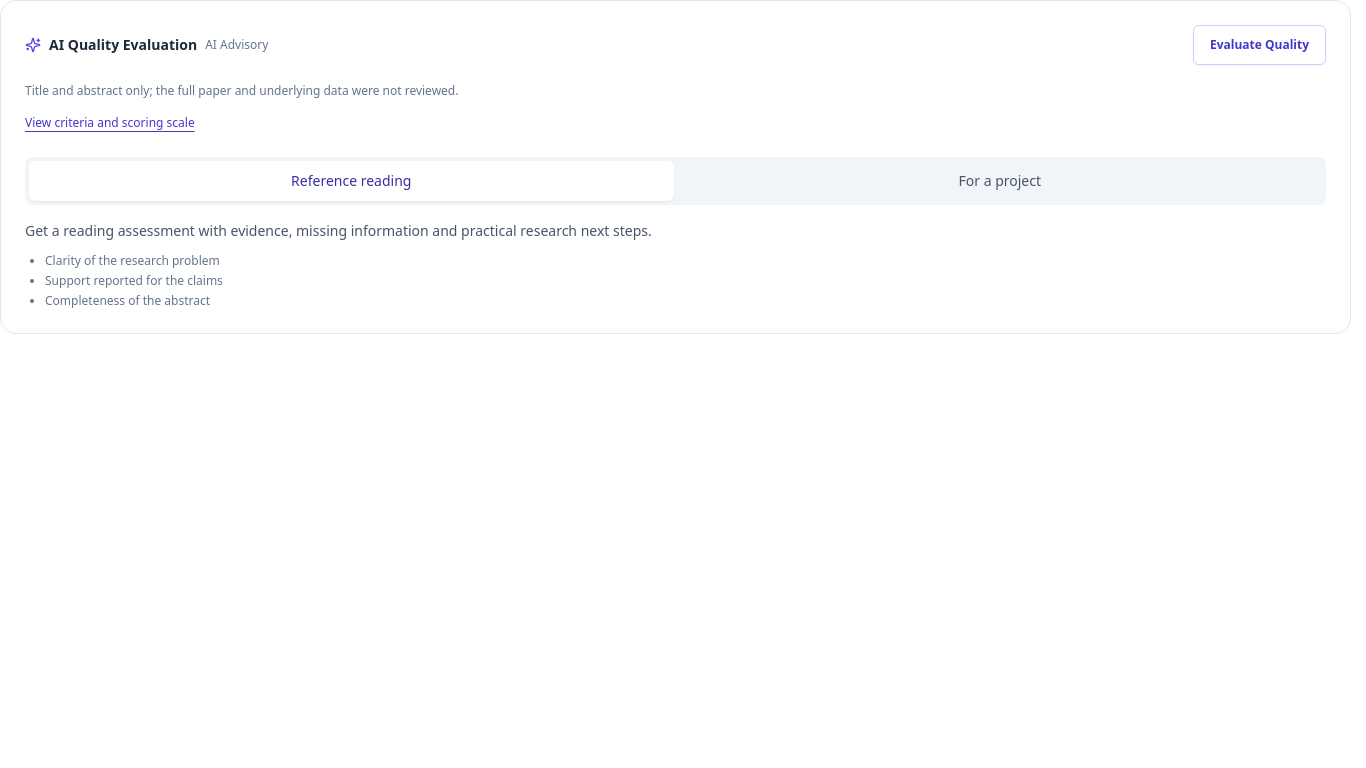
Test case: project mode › does not offer to add a paper that is already in the project
This screenshot has width=1366, height=768.
Click the button "For a project". click: x=1000, y=180
box: left=678, top=160, right=1322, bottom=200
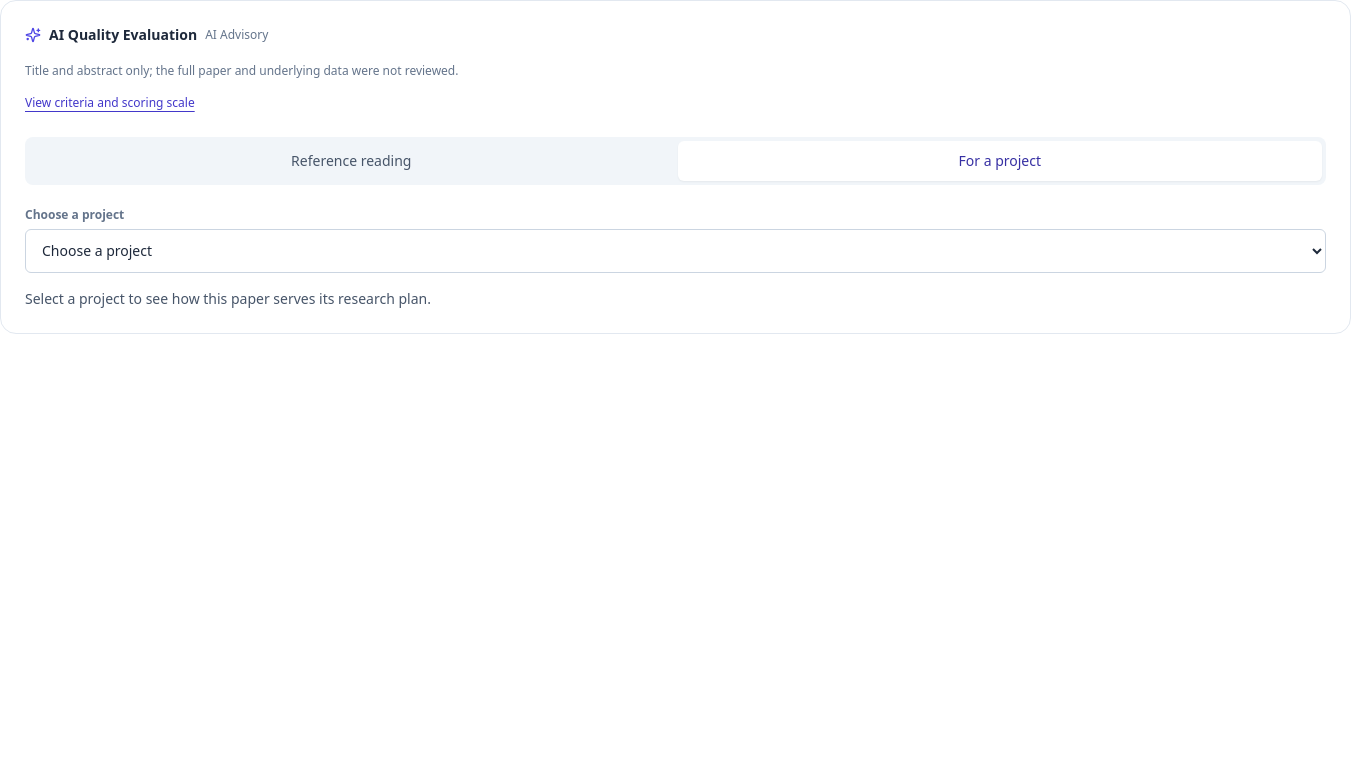
Select "Feedback in writing classes" in the dropdown labelled "Choose a project". click: x=676, y=250
box: left=25, top=228, right=1326, bottom=272
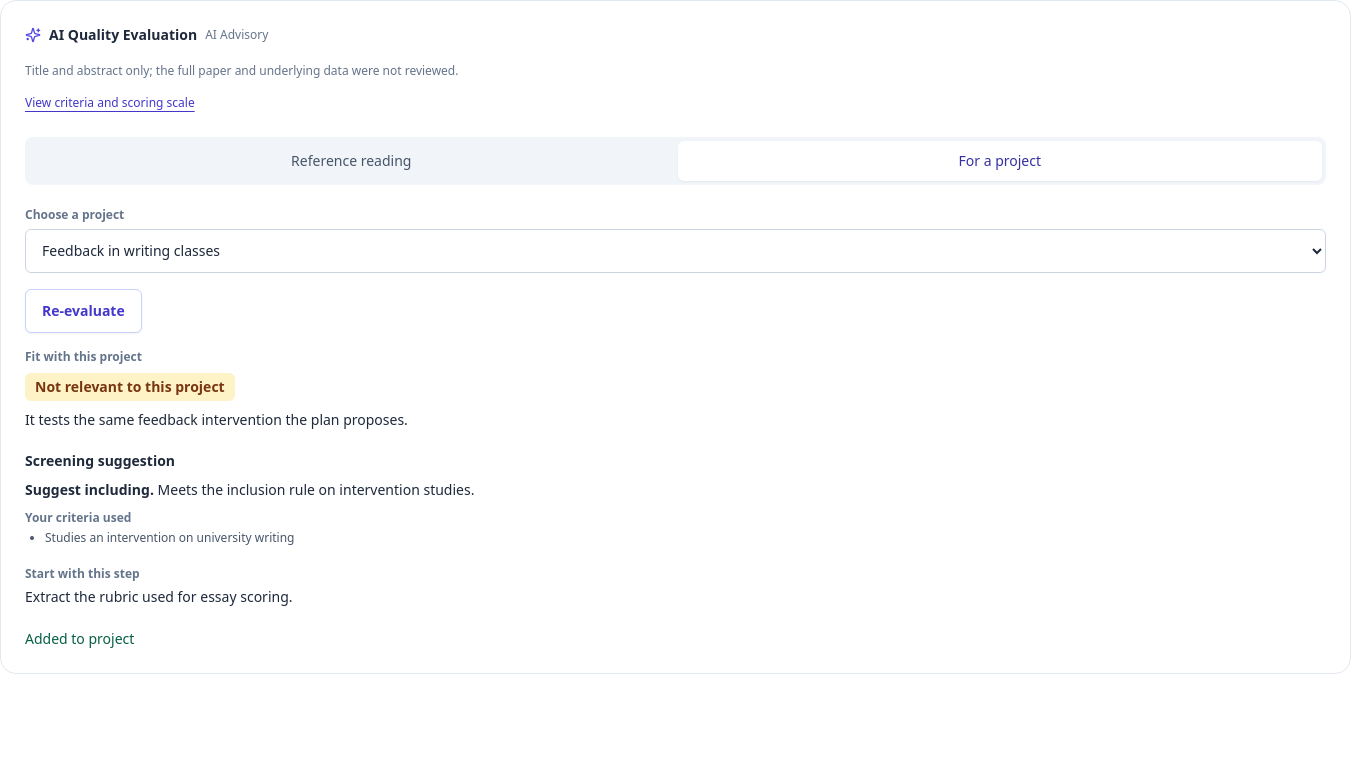
Now the text "Not relevant to this project" is shown, box left=25, top=372, right=235, bottom=400
Now the text "Added to project" is shown, box left=25, top=629, right=134, bottom=648
